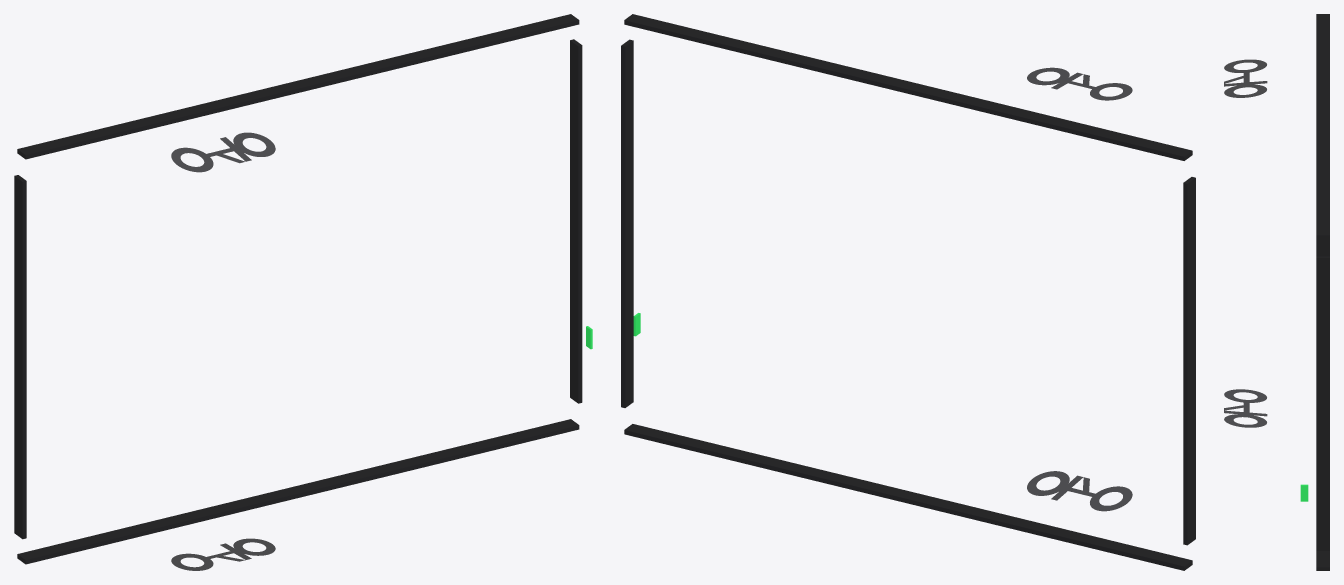
File: base_trim.glb
3 views of the same model, side by side, from view 1: azimuth 30°, elevation 25°; view 2: azimuth 150°, elevation 25°; view 3: azimuth 270°, elevation 25° (orthographic). The views are drawn at different scales.
Parts seen in each view (by area): view 1: bumper_left, bumper_right, bumper_rear, bumper_front, number_left, number_right; view 2: bumper_left, bumper_right, bumper_front, bumper_rear, number_right, number_left; view 3: bumper_front, bumper_left, number_right, number_left, bumper_right, bumper_rear, front_status_led.
Part boxes in pixels (x1,y1,x2,y2): bumper_left: [17, 14, 579, 159]; bumper_right: [17, 419, 579, 564]; bumper_rear: [14, 175, 26, 539]; bumper_front: [570, 39, 582, 403]; number_left: [171, 132, 275, 172]; number_right: [171, 538, 275, 570]; bumper_left: [624, 14, 1192, 160]; bumper_right: [624, 424, 1192, 570]; bumper_front: [621, 39, 633, 407]; bumper_rear: [1183, 177, 1195, 545]; number_right: [1027, 471, 1132, 511]; number_left: [1027, 67, 1132, 100]; bumper_front: [1316, 256, 1329, 550]; bumper_left: [1316, 14, 1329, 238]; number_right: [1224, 389, 1267, 427]; number_left: [1224, 59, 1267, 97]; bumper_right: [1316, 551, 1329, 570]; bumper_rear: [1316, 239, 1329, 256]; front_status_led: [1300, 484, 1308, 501].
Bounding box in the file's own units: 0.5417 × 0.378 × 0.108.
7 materials, 7 textured.
